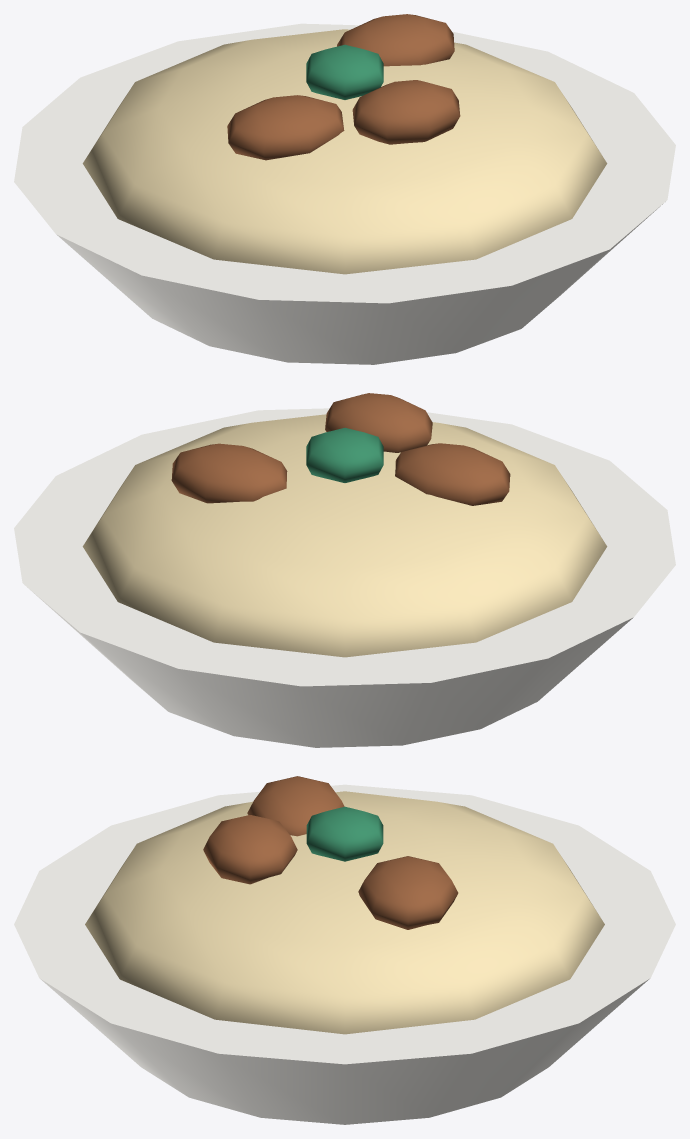
The model's file is dish_mantarli_makarna.glb.
3 renders of one model, top to bottom at view 1: azimuth 30°, elevation 25°; view 2: azimuth 150°, elevation 25°; view 3: azimuth 270°, elevation 25°, orthographic.
Visible parts, largest first — view 1: DishNode_mantarli_makarna; view 2: DishNode_mantarli_makarna; view 3: DishNode_mantarli_makarna.
Boxes of the visible parts, x1,y1,x2,y2 form: DishNode_mantarli_makarna: [14, 14, 675, 364]; DishNode_mantarli_makarna: [14, 393, 675, 747]; DishNode_mantarli_makarna: [14, 776, 675, 1124].
Size of the model in its own units: 0.42 by 0.153 by 0.42.
